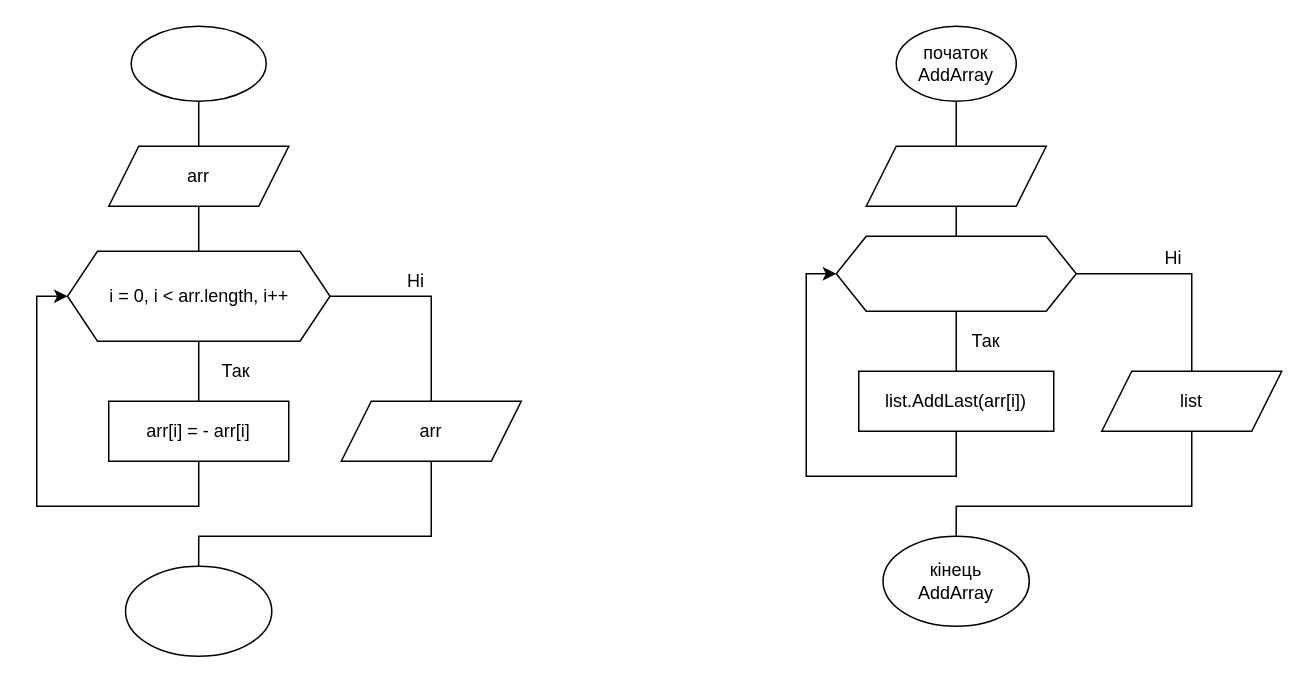
Some shapes in this 1308 by 683 pixel diagram are drawn without their labels. The centre of each missing label's shape, as x and y in pixels:
i = 0, i < size, i++: the point at 955,273
list, array, size: the point at 955,175
кінець ReverseArray: the point at 198,610
початок ReverseArray: the point at 198,63
